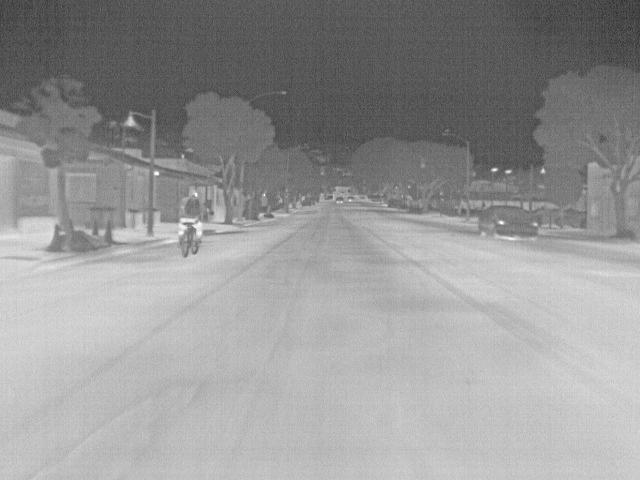car: (478, 205, 541, 241), (336, 196, 346, 205), (347, 193, 356, 203)
person: (180, 186, 204, 235)
